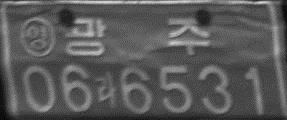0: (22, 65, 56, 115)
1: (239, 65, 271, 114)
3: (196, 64, 234, 115)
5: (159, 64, 193, 114)
6: (120, 66, 155, 115), (59, 63, 92, 113)
광주_D: (64, 14, 211, 57)
라: (94, 71, 118, 109)
영: (20, 15, 56, 59)
